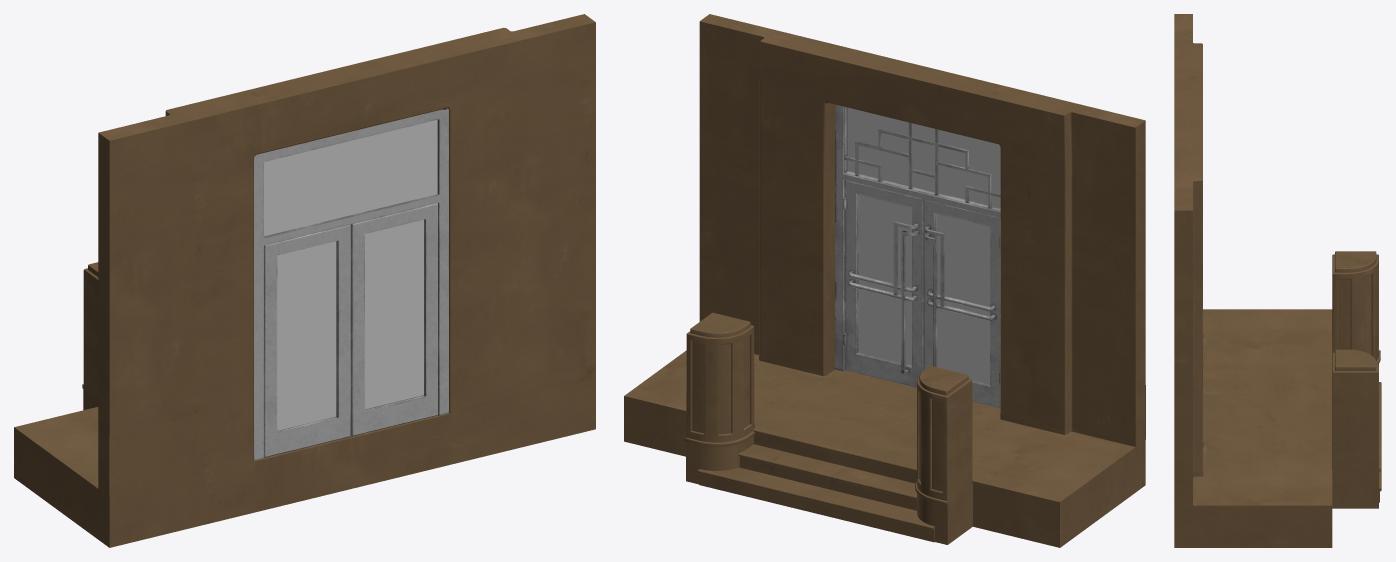
The model's file is SM_Building01EntranceR.fbx.
The picture shows the model from 3 angles, left to right: view 1: azimuth 30°, elevation 25°; view 2: azimuth 150°, elevation 25°; view 3: azimuth 270°, elevation 25°; orthographic projection. The views are drawn at different scales.
Parts seen in each view (by area): view 1: SM_Building01EntranceR_LOD0; view 2: SM_Building01EntranceR_LOD0; view 3: SM_Building01EntranceR_LOD0.
Part boxes in pixels (<box>): SM_Building01EntranceR_LOD0: <box>14,14,595,547</box>; SM_Building01EntranceR_LOD0: <box>624,14,1145,547</box>; SM_Building01EntranceR_LOD0: <box>1174,14,1381,547</box>.
Bounding box in the file's own units: 500 × 223 × 400.
Materials: 4 (3 with a texture image).
